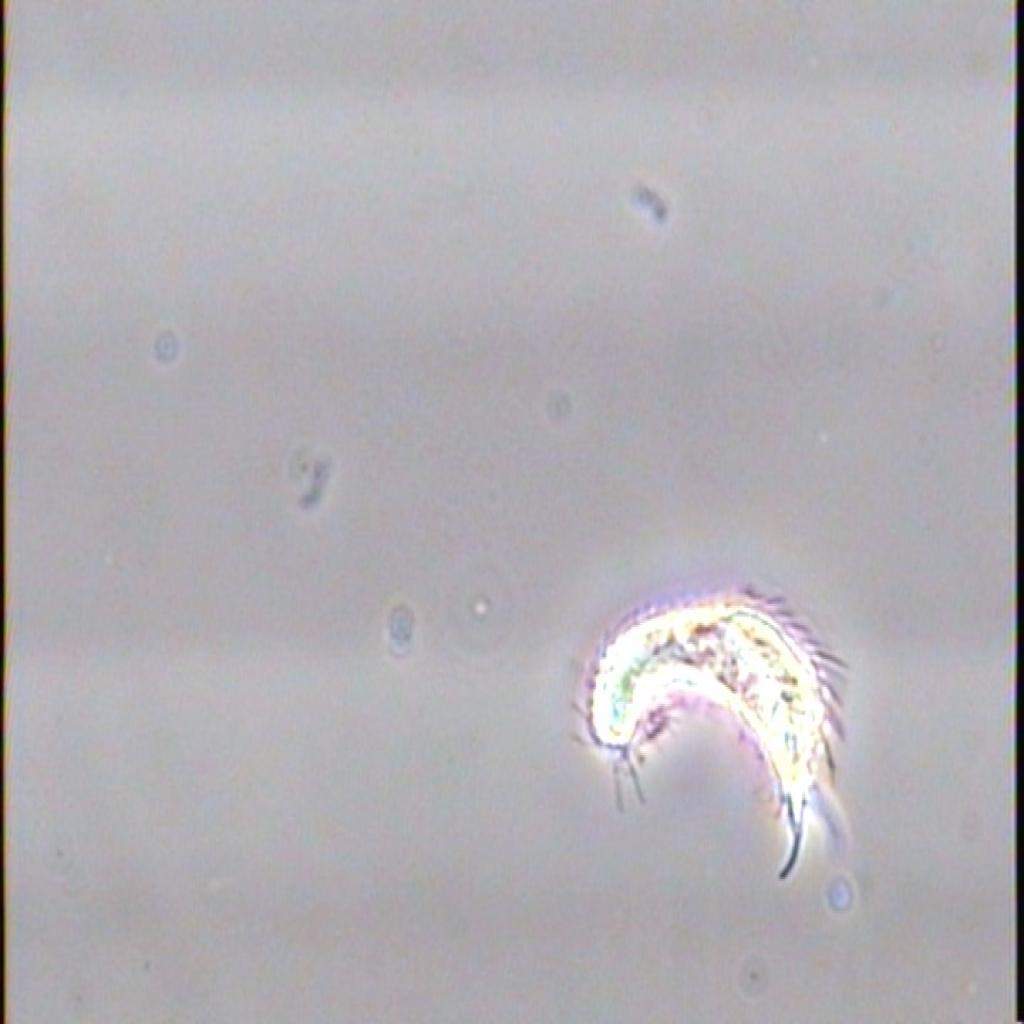Chaetonotus: (540, 552, 874, 904)
